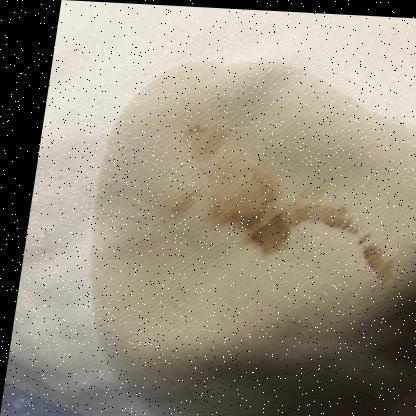coffee: (108, 99, 405, 363)
